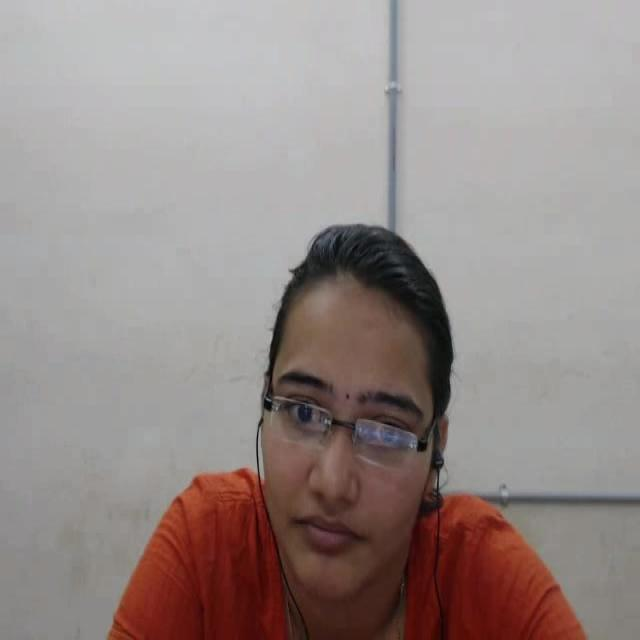Engaged: (234, 187, 491, 640)
